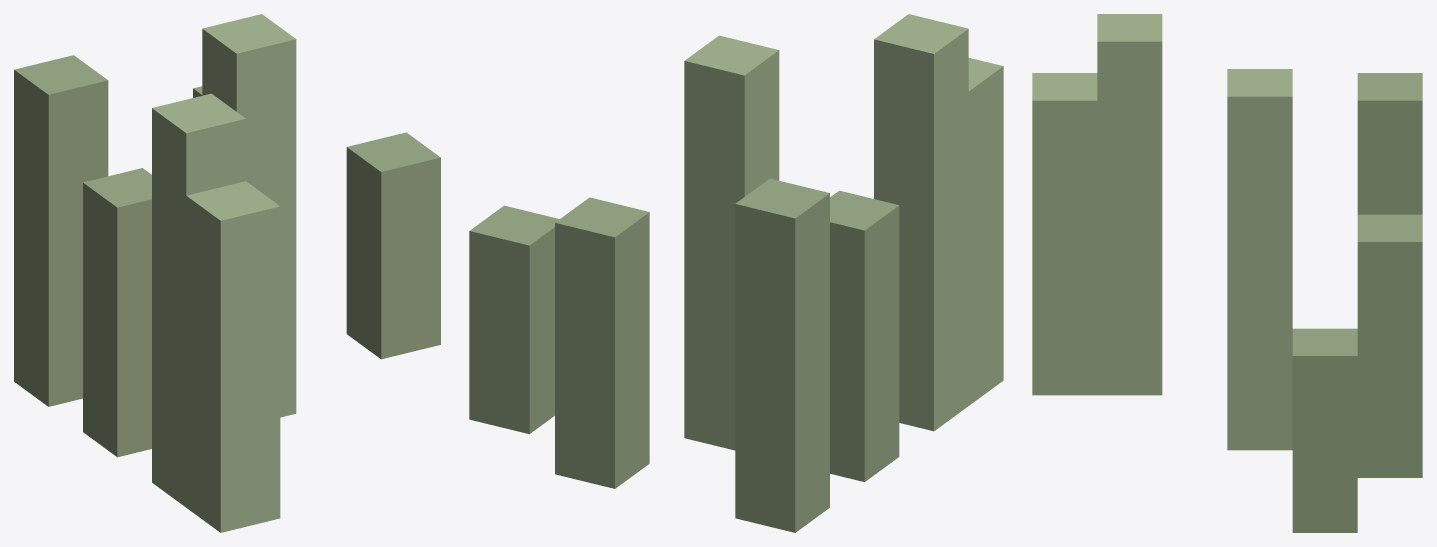
Rendered from alcaparra_03.glb.
3 renders of one model, left to right at view 1: azimuth 30°, elevation 25°; view 2: azimuth 150°, elevation 25°; view 3: azimuth 270°, elevation 25°, orthographic. The views are drawn at different scales.
Visible parts, largest first — view 1: alcaparra_03; view 2: alcaparra_03; view 3: alcaparra_03.
Boxes of the visible parts, <box> form: alcaparra_03: <box>14,14,440,532</box>; alcaparra_03: <box>469,14,1003,532</box>; alcaparra_03: <box>1032,14,1422,532</box>.
Bounding box in the file's own units: 0.6 × 0.6 × 0.6.
